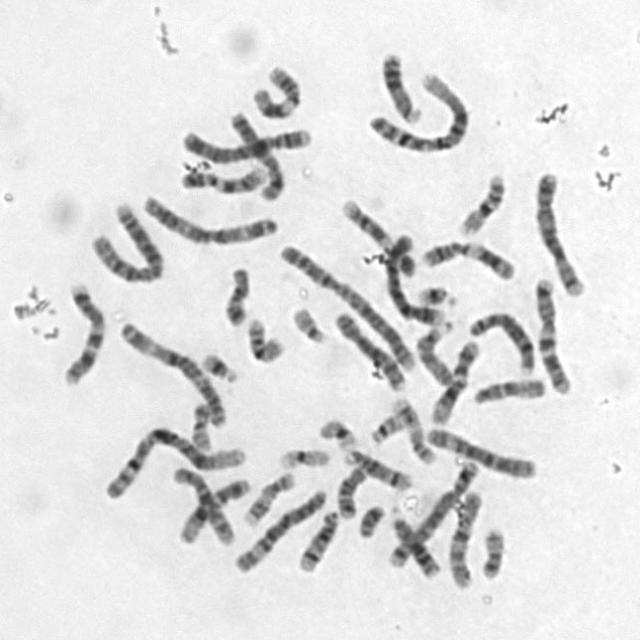A1: (97, 418, 249, 501), (361, 64, 472, 155)
A2: (273, 237, 419, 378), (83, 194, 166, 285)
A3: (113, 312, 230, 428), (133, 187, 280, 247)
B4: (379, 225, 449, 328), (175, 118, 315, 164)
B5: (382, 452, 481, 571), (528, 164, 589, 298)
C10: (167, 460, 240, 547), (441, 482, 486, 592)
C11: (416, 232, 520, 281), (245, 57, 305, 121)
C12: (172, 471, 253, 546), (425, 334, 483, 426)
C6: (228, 481, 330, 575), (419, 419, 540, 480)
C7: (527, 270, 575, 396), (55, 275, 108, 387)
C8: (328, 303, 408, 393), (463, 303, 537, 376)
C9: (336, 191, 418, 278), (172, 159, 270, 195)
D13: (384, 503, 443, 580), (375, 44, 424, 126)
D14: (338, 442, 413, 492), (291, 502, 342, 574)
D15: (410, 316, 457, 388), (467, 370, 549, 407)
E16: (452, 166, 509, 237), (240, 311, 286, 364)
E17: (236, 464, 299, 528), (386, 389, 437, 466)
E18: (331, 458, 370, 520), (218, 259, 253, 328)
F19: (273, 440, 333, 471), (313, 411, 358, 451)
F20: (475, 520, 507, 582), (183, 395, 215, 453)
G21: (195, 344, 240, 384), (411, 278, 459, 308)
G22: (285, 298, 330, 344), (365, 406, 409, 445)
X: (223, 104, 288, 203)
Y: (352, 498, 388, 540)
